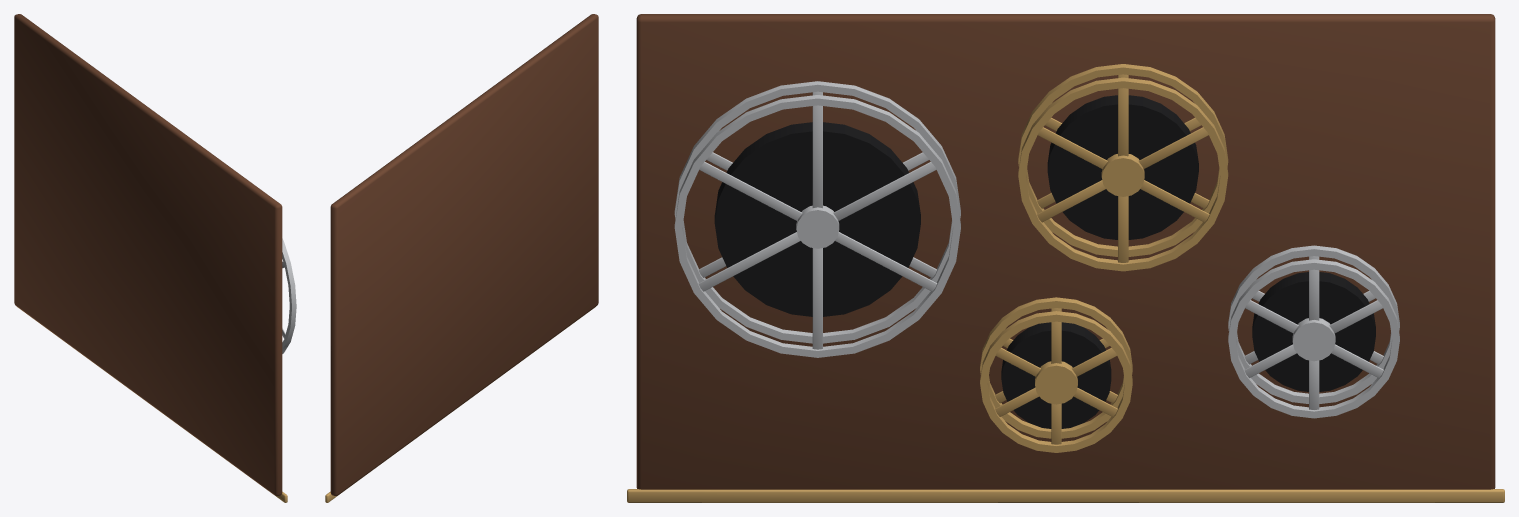
Rendered from reel_wall.glb.
The picture shows the model from 3 angles, left to right: view 1: azimuth 30°, elevation 25°; view 2: azimuth 150°, elevation 25°; view 3: azimuth 270°, elevation 25°; orthographic projection. The views are drawn at different scales.
Visible parts, largest first — view 1: Plate_LOD0, Reel0Rim_LOD0.001; view 2: Plate_LOD0; view 3: Plate_LOD0, Reel0Film_LOD0, Reel1Film_LOD0, Rail_LOD0, Reel0Rim_LOD0.001, Reel2Film_LOD0, Reel0Rim_LOD0, Reel3Film_LOD0, Reel1Rim_LOD0.001, Reel2Rim_LOD0.001, Reel1Rim_LOD0, Reel3Rim_LOD0.001 (+12 smaller).
Boxes of the visible parts, x1,y1,x2,y2 form: Plate_LOD0: (14,14,282,495); Reel0Rim_LOD0.001: (282,238,296,353); Plate_LOD0: (330,14,598,495); Plate_LOD0: (636,14,1495,489); Reel0Film_LOD0: (714,122,920,316); Reel1Film_LOD0: (1047,95,1198,239); Rail_LOD0: (627,489,1504,502); Reel0Rim_LOD0.001: (674,95,960,357); Reel2Film_LOD0: (1252,272,1375,391); Reel0Rim_LOD0: (674,81,960,343); Reel3Film_LOD0: (1001,322,1111,428); Reel1Rim_LOD0.001: (1018,77,1228,271); Reel2Rim_LOD0.001: (1228,259,1399,418); Reel1Rim_LOD0: (1018,64,1228,256); Reel3Rim_LOD0.001: (980,311,1132,452).
Size of the model in its own units: 0.134 by 1.12 by 1.84.
